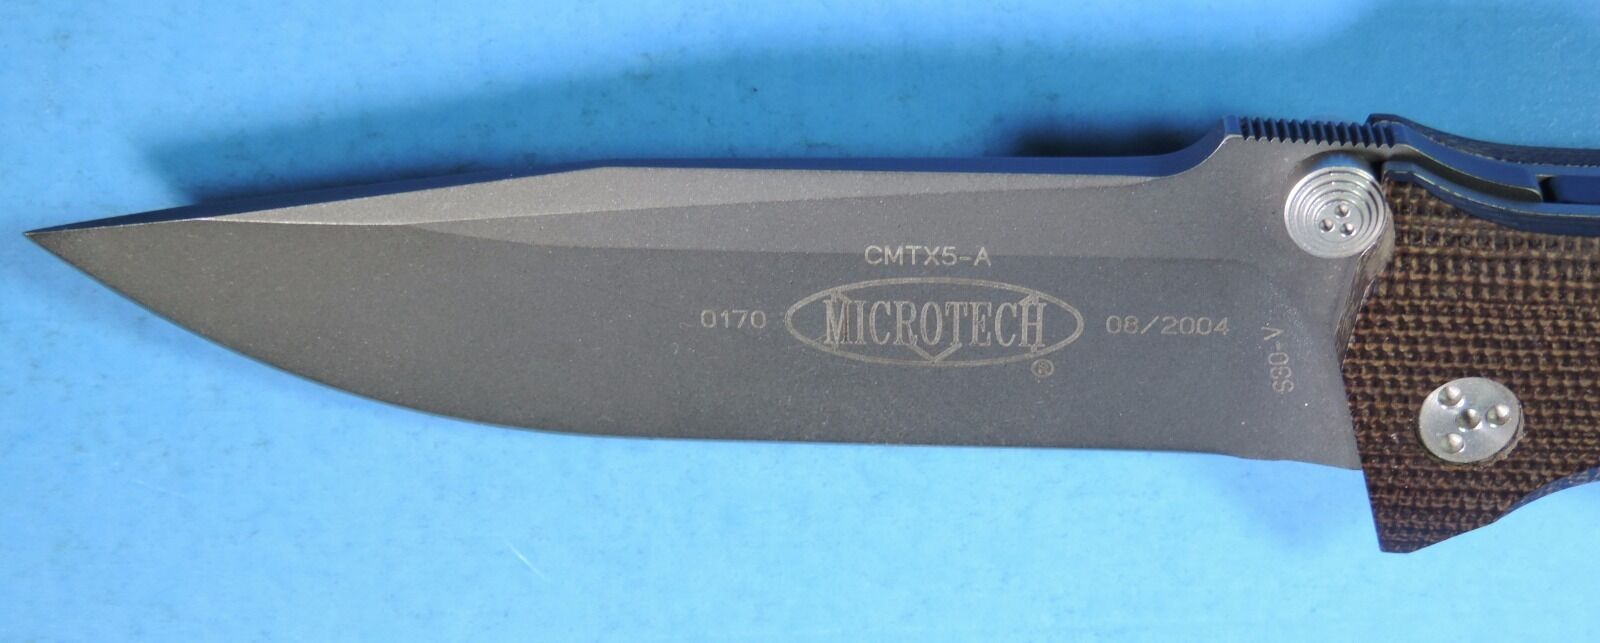knief: (7, 161, 1598, 529)
